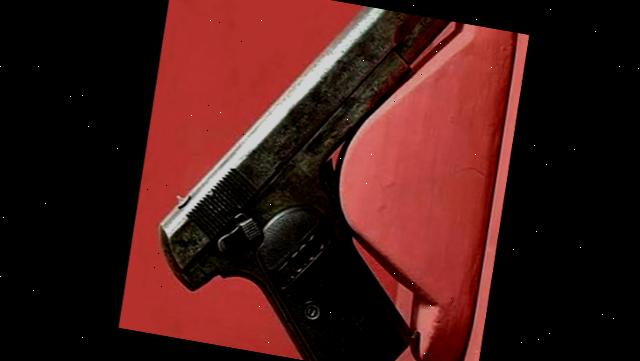pistol: (152, 2, 464, 361)
